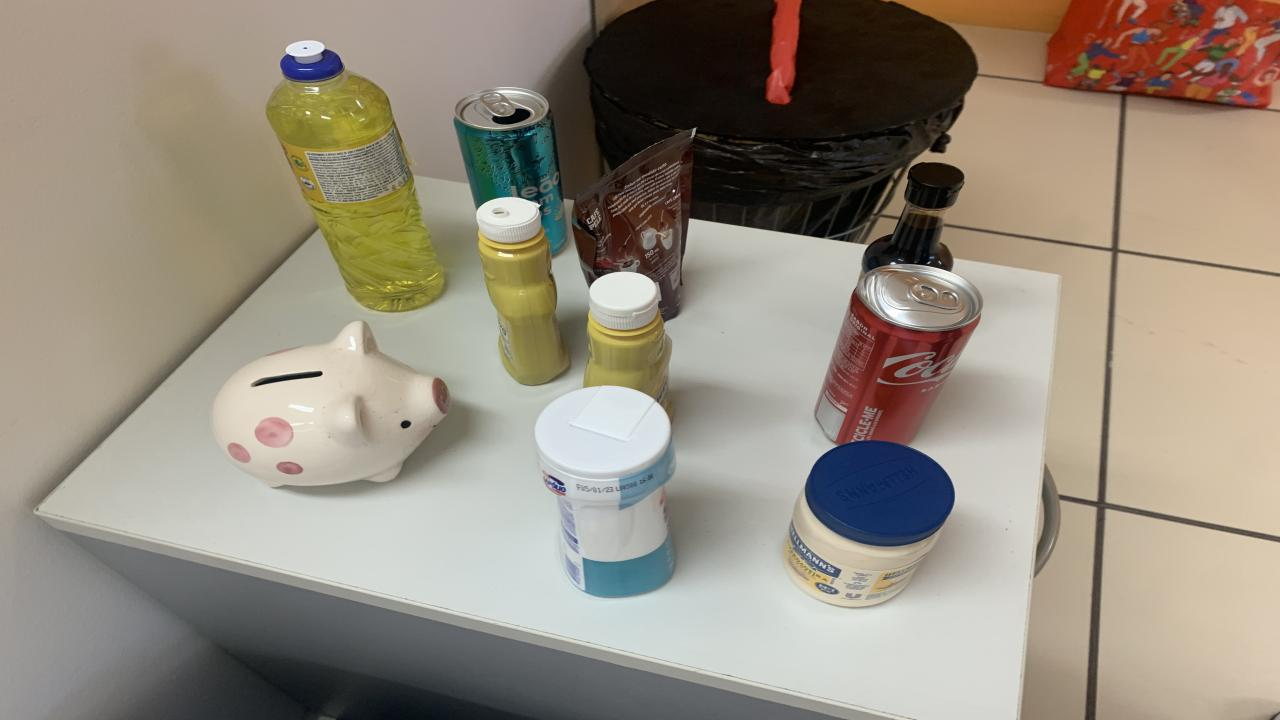Cleaner-Cleanup_Items: (535, 386, 675, 598)
Coffee-Pantry_Items: (572, 129, 695, 319)
Coke-Drinks: (815, 264, 982, 444)
Detergent-Cleanup_Items: (265, 39, 445, 311)
English_Sauce-Pantry_Items: (862, 163, 965, 274)
Mayonnaise-Pantry_Items: (782, 441, 955, 608)
Mustard-Pantry_Items: (475, 197, 570, 384), (585, 272, 672, 414)
Pig_Safe-Miscellaneous: (212, 321, 450, 488)
Tea-Drinks: (455, 86, 568, 253)
